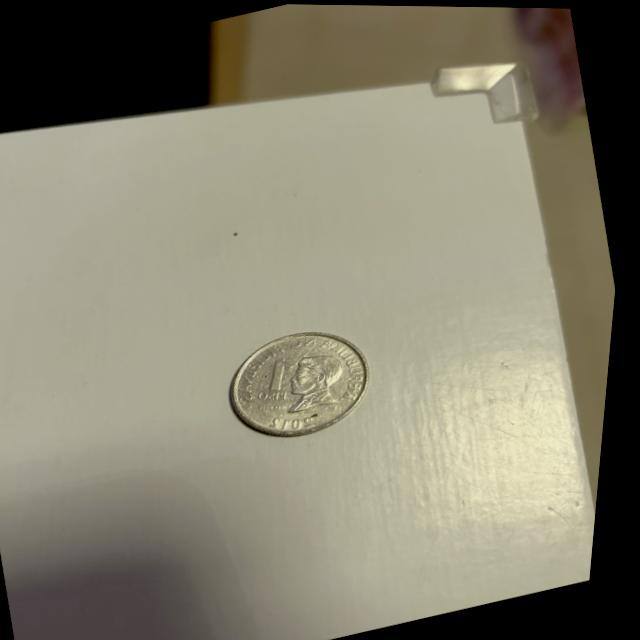1_Old_Front: (246, 346, 314, 414)
